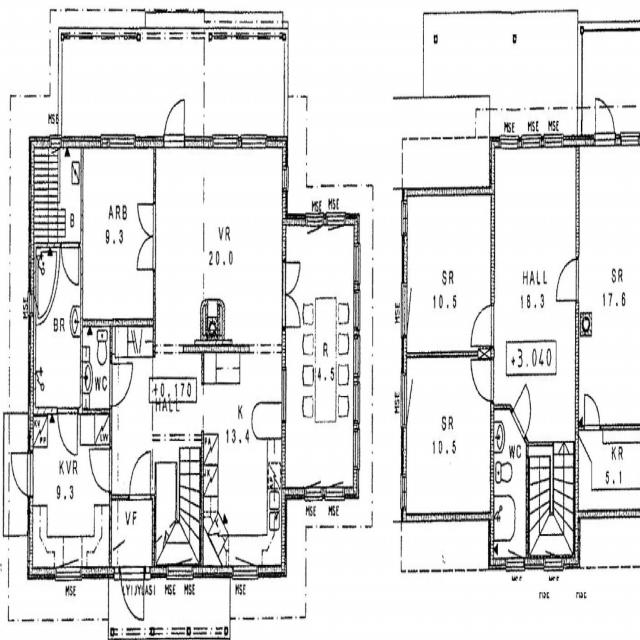door: (121, 566, 144, 626), (512, 384, 537, 438), (164, 92, 184, 147), (7, 452, 33, 494), (595, 90, 615, 144), (129, 450, 150, 499), (109, 363, 132, 406), (58, 407, 78, 456), (556, 258, 579, 300), (90, 449, 112, 491), (472, 360, 494, 401), (472, 305, 493, 345), (60, 242, 78, 286), (282, 294, 301, 328), (282, 262, 301, 294), (138, 203, 155, 236), (138, 237, 155, 270), (585, 393, 600, 429)
